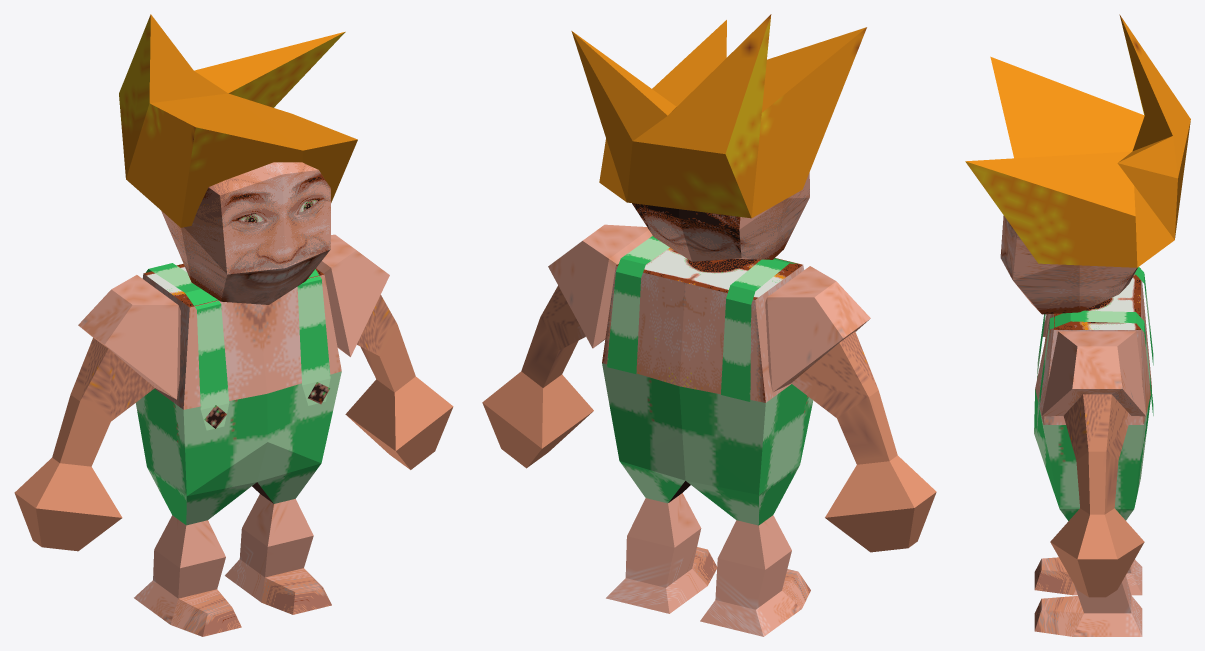
Rendered from Kid_03.fbx.
3 renders of one model, left to right at view 1: azimuth 30°, elevation 25°; view 2: azimuth 150°, elevation 25°; view 3: azimuth 270°, elevation 25°, orthographic. The views are drawn at different scales.
Visible parts, largest first — view 1: Plane.002; view 2: Plane.002; view 3: Plane.002.
Part boxes in pixels (x1,y1,x2,y2): Plane.002: (14, 14, 453, 636); Plane.002: (482, 14, 936, 636); Plane.002: (965, 14, 1190, 636).
Size of the model in its own units: 16.21 by 21.95 by 8.09.
Materials: 1 (1 with a texture image).
